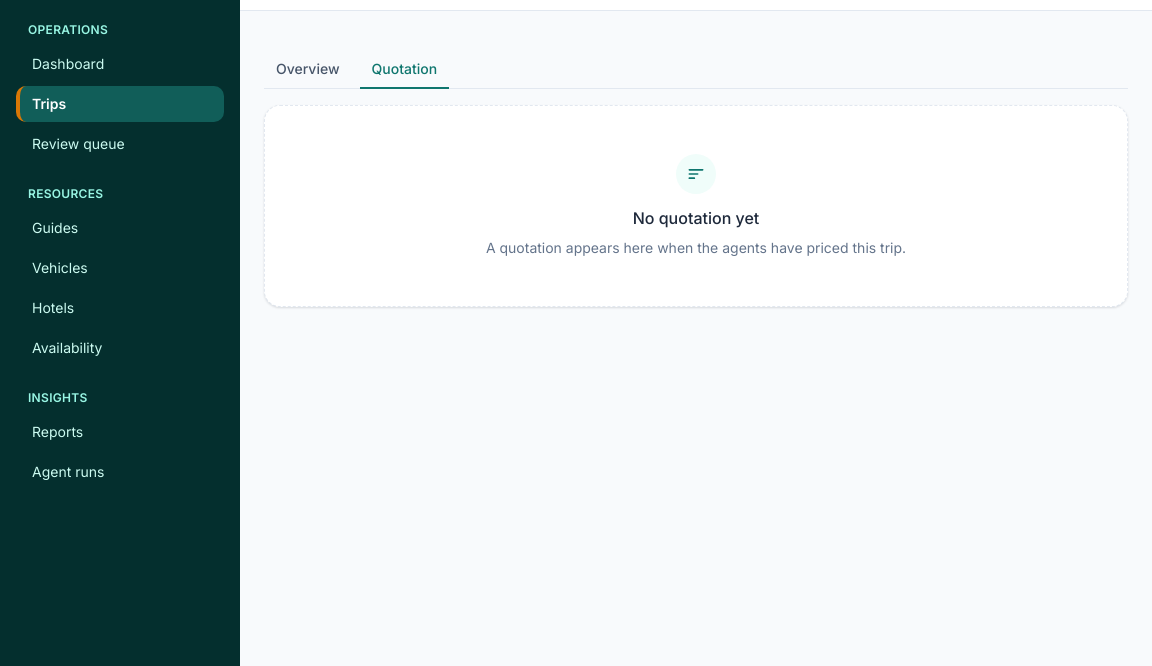
Test: Trip detail: Quotation tab › says when the trip has no quotation yet, and switches back to the overview
Expected: the text "No quotation yet" is shown, [633,206,759,230]
Click the tab "Overview" at (308, 70), box [264,51,352,89]
(page scrolled)
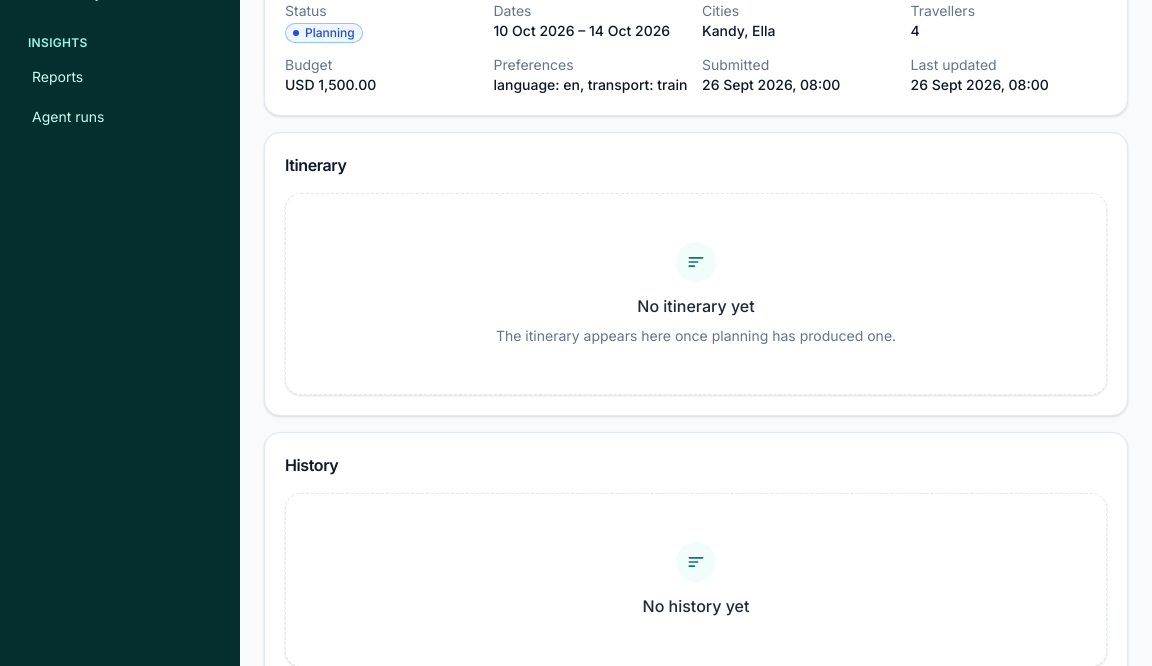
Now the text "No itinerary yet" is shown, box [637,294,755,318]
